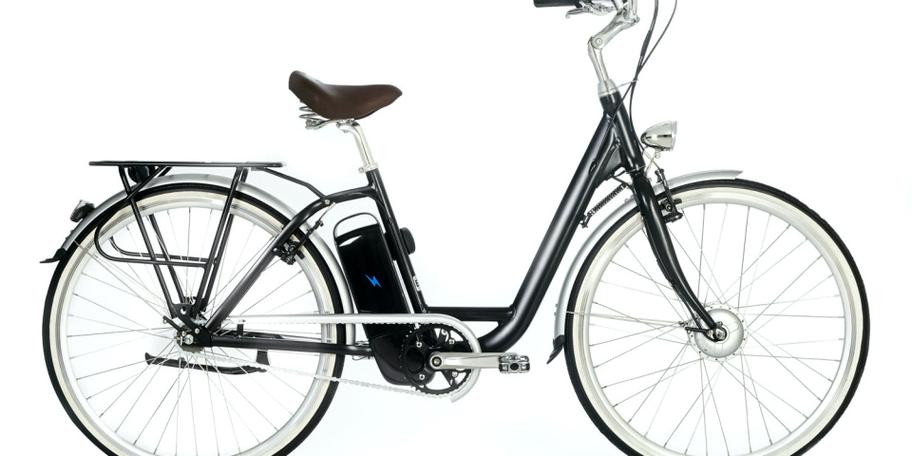单车: (32, 1, 881, 456)
